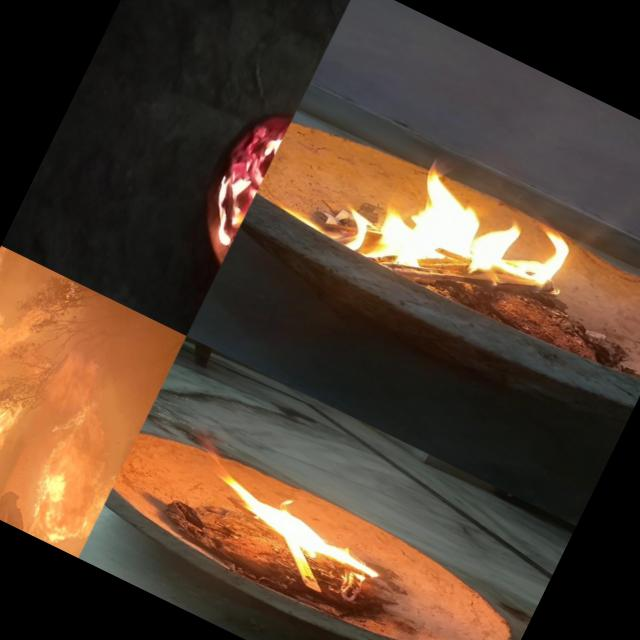fire: (298, 114, 592, 344), (184, 442, 413, 604), (9, 368, 153, 558), (0, 256, 91, 489), (190, 97, 294, 253)
